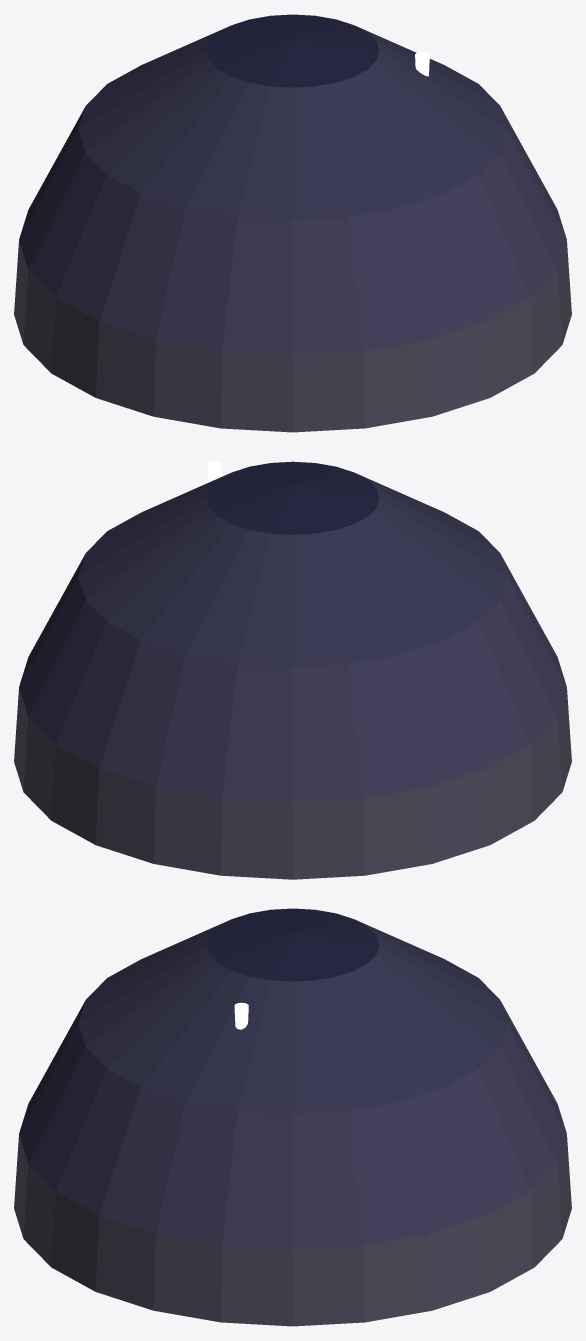
File: sky_city_night.glb
3 views of the same model, one above another, from view 1: azimuth 30°, elevation 25°; view 2: azimuth 150°, elevation 25°; view 3: azimuth 270°, elevation 25° (orthographic).
Visible parts, largest first — view 1: skyband1, skyband2, skyband0, skyband3; view 2: skyband1, skyband2, skyband0, skyband3; view 3: skyband1, skyband2, skyband0, skyband3.
Part boxes in pixels (<box>): skyband1: <box>19,107,566,355</box>; skyband2: <box>78,26,507,219</box>; skyband0: <box>14,240,571,432</box>; skyband3: <box>206,14,379,87</box>; skyband1: <box>19,554,566,802</box>; skyband2: <box>78,473,507,667</box>; skyband0: <box>14,687,571,879</box>; skyband3: <box>206,461,379,534</box>; skyband1: <box>19,1001,566,1249</box>; skyband2: <box>78,920,507,1113</box>; skyband0: <box>14,1134,571,1326</box>; skyband3: <box>206,908,379,981</box>.
Size of the model in its own units: 179 by 97.84 by 179.
